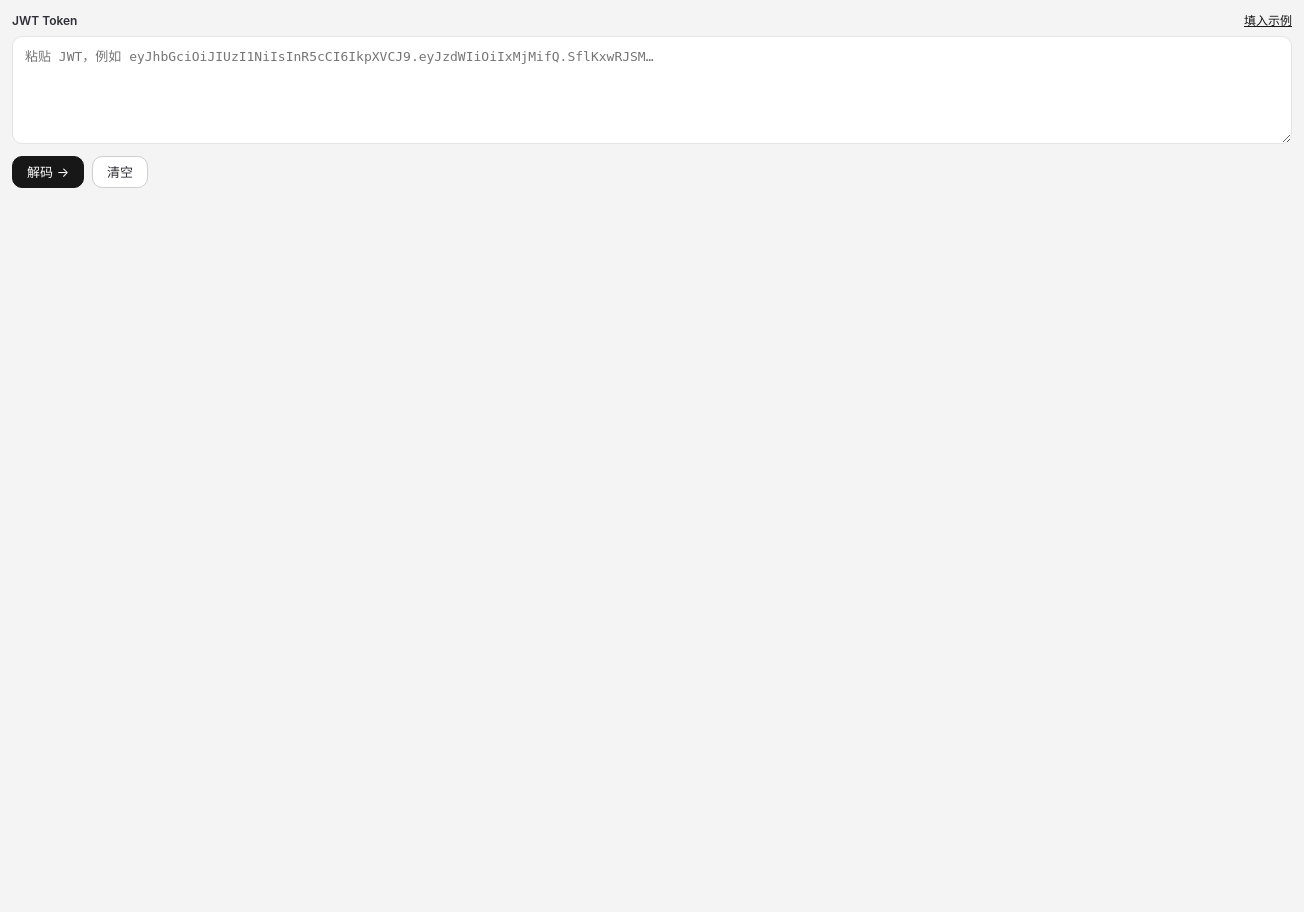
Scenario: JwtTool 解码展示 › 「填入示例」写入示例 token 并直接解码
Click the button "填入示例". click: {"x": 1268, "y": 21}
box: x1=1244 y1=12 x2=1292 y2=30
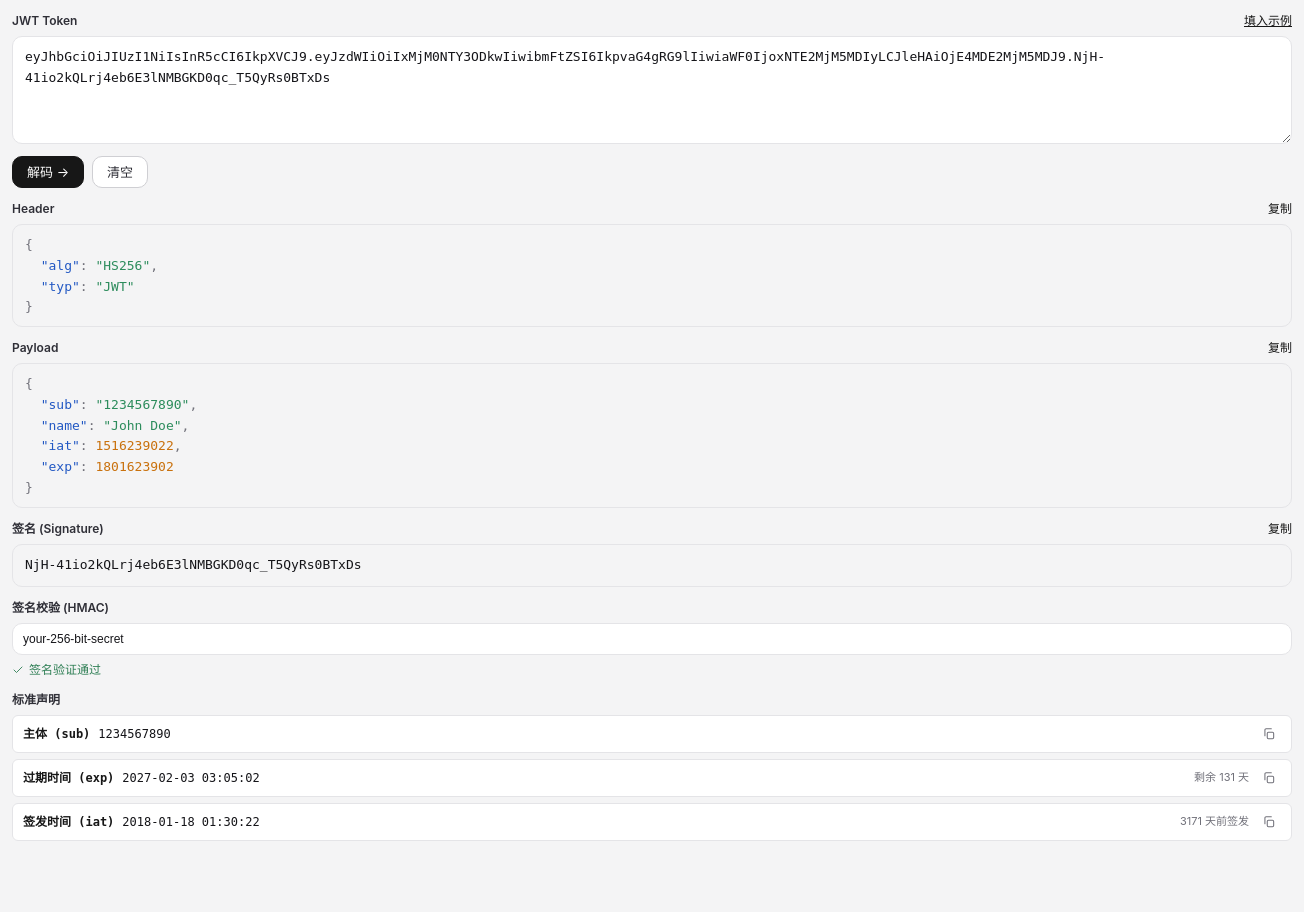
Result: the text "John Doe" is shown at x1=103 y1=418 x2=182 y2=433
